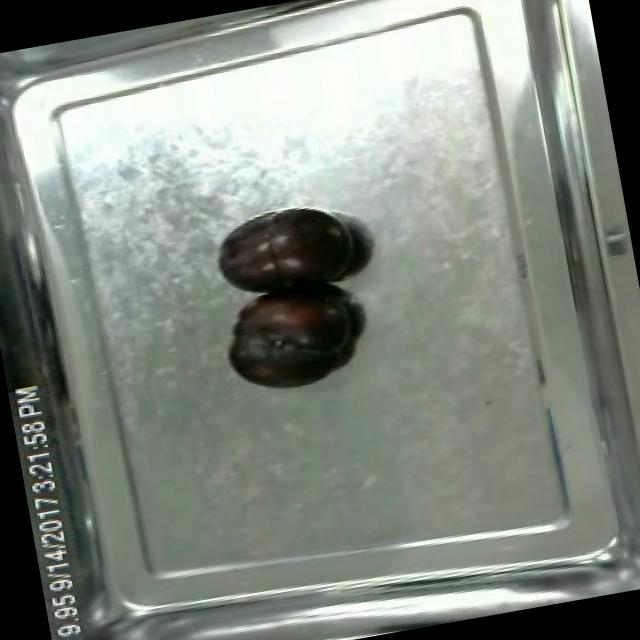Fruit: (212, 272, 368, 402), (204, 196, 370, 311)
